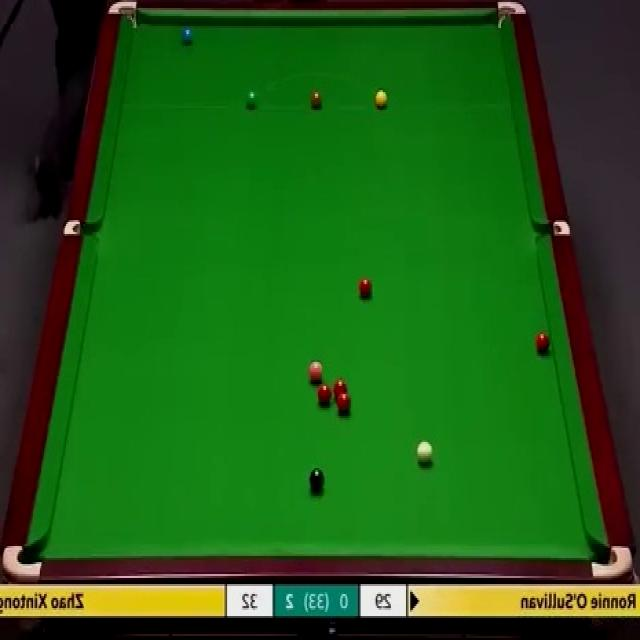black-ball: (308, 466, 325, 494)
blue-ball: (179, 22, 195, 47)
brown-ball: (309, 91, 323, 111)
green-ball: (244, 90, 258, 112)
pink-ball: (308, 361, 326, 385)
red-ball: (357, 276, 373, 300), (316, 383, 333, 405), (336, 393, 352, 416), (536, 331, 551, 355), (332, 379, 349, 400)
white-ball: (416, 437, 434, 465)
yellow-ball: (374, 90, 388, 110)
